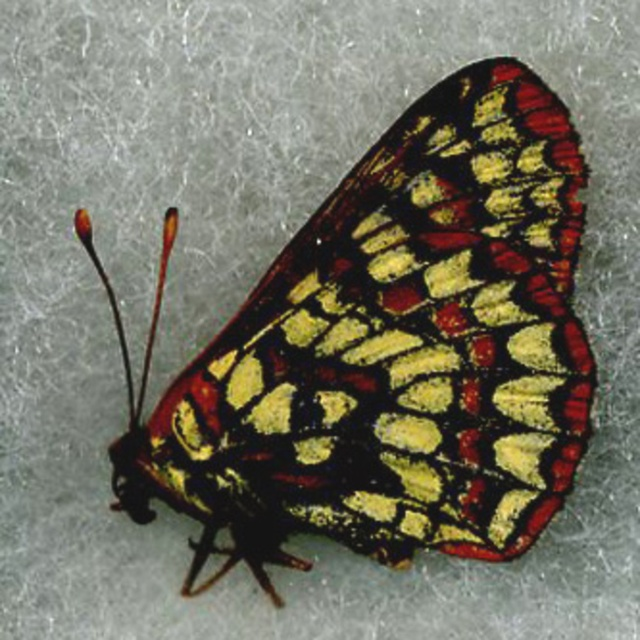Butterfly: (69, 55, 598, 615)
